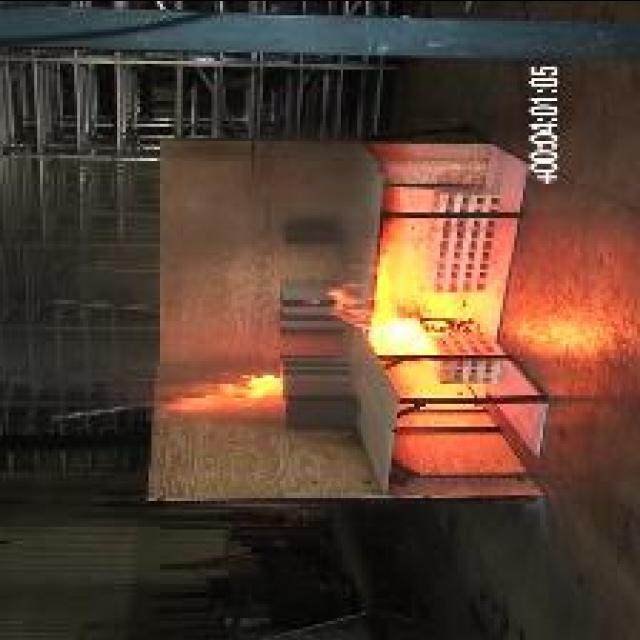Fire: (312, 243, 468, 351), (157, 373, 283, 410)
